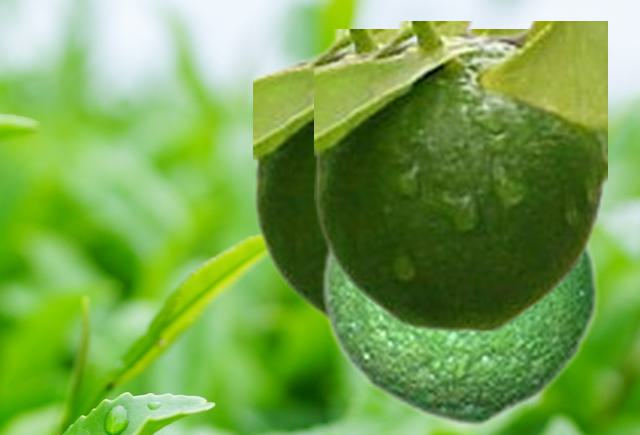dalandan: (314, 21, 606, 332), (253, 29, 519, 323), (319, 235, 599, 427)
